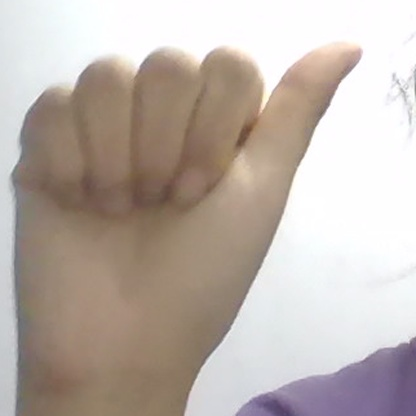A: (12, 41, 362, 376)
